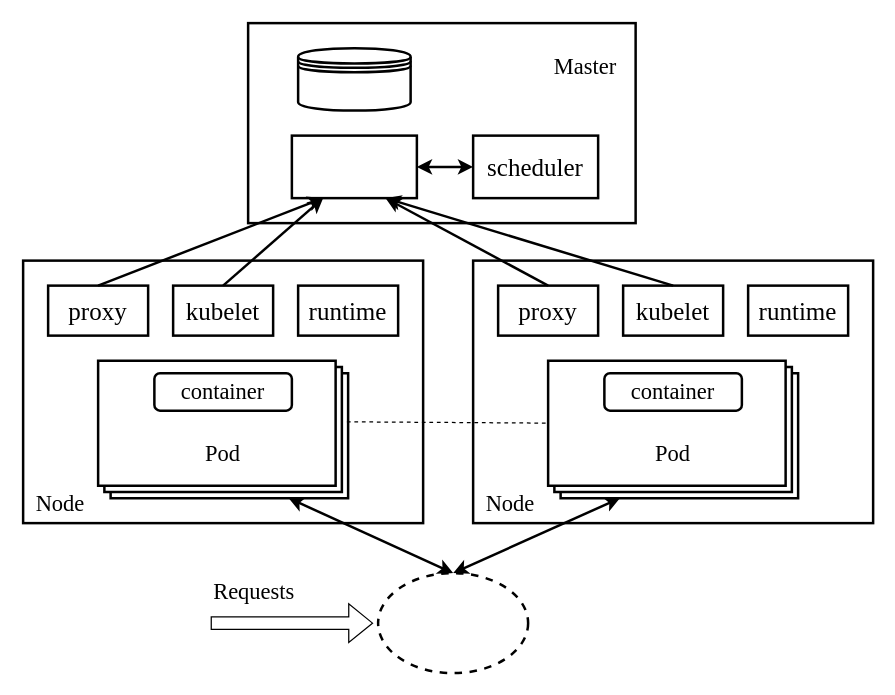
Image size: 895x695. Some labels were removed from this diagram. Each missing label, with the centre of its shape:
"api-server" goes at point 354,166.
"etcd" goes at point 353,78.
"Service" goes at point 452,622.
